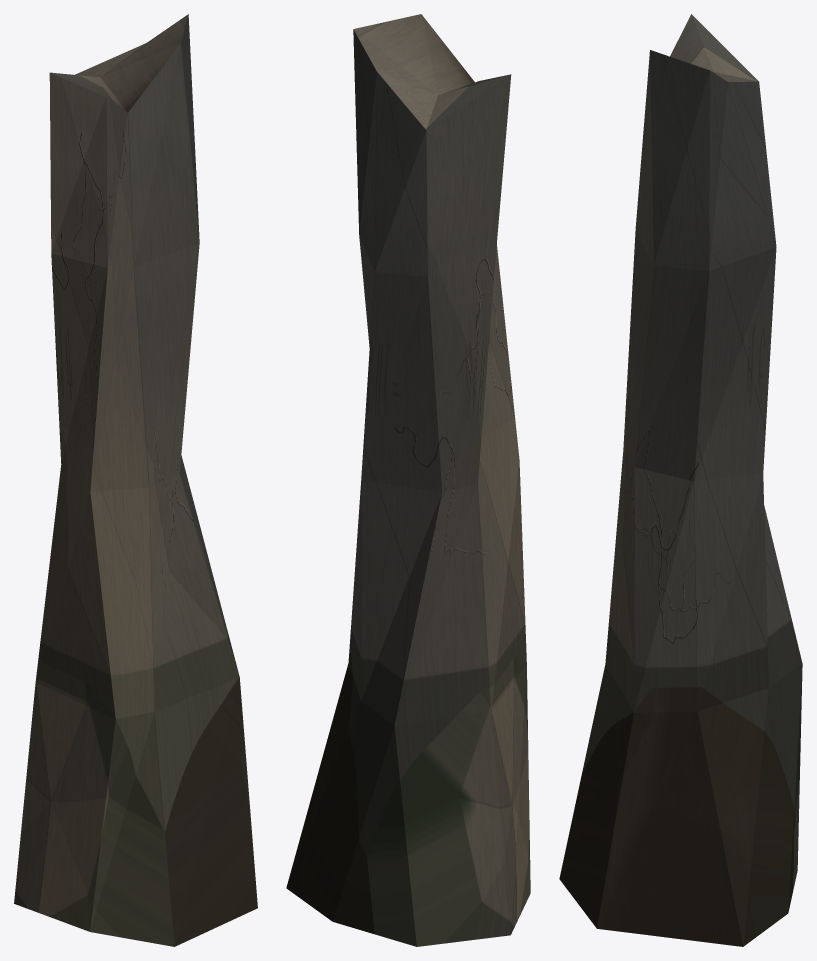
File: monolito-04.glb
3 views of the same model, side by side, from view 1: azimuth 30°, elevation 25°; view 2: azimuth 150°, elevation 25°; view 3: azimuth 270°, elevation 25° (orthographic).
Visible parts, largest first — view 1: monolito-04-nn; view 2: monolito-04-nn; view 3: monolito-04-nn.
Part boxes in pixels (left/top/right/bottom): monolito-04-nn: left=14, top=14, right=257, bottom=946; monolito-04-nn: left=286, top=14, right=530, bottom=946; monolito-04-nn: left=559, top=14, right=802, bottom=946.
Bounding box in the file's own units: 1.12 × 4.25 × 1.1.
Materials: 1 (1 with a texture image).
